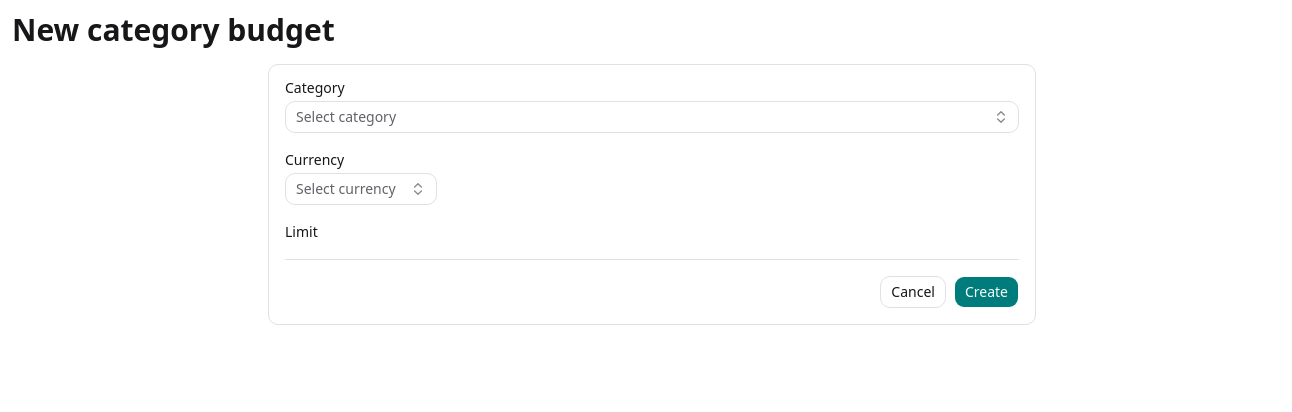
Test: BudgetCreate › renders the conflict prompt when server returns 409 with existingIsActive=true
Click the button "Create". click: [986, 292]
box: x1=954 y1=276 x2=1019 y2=308
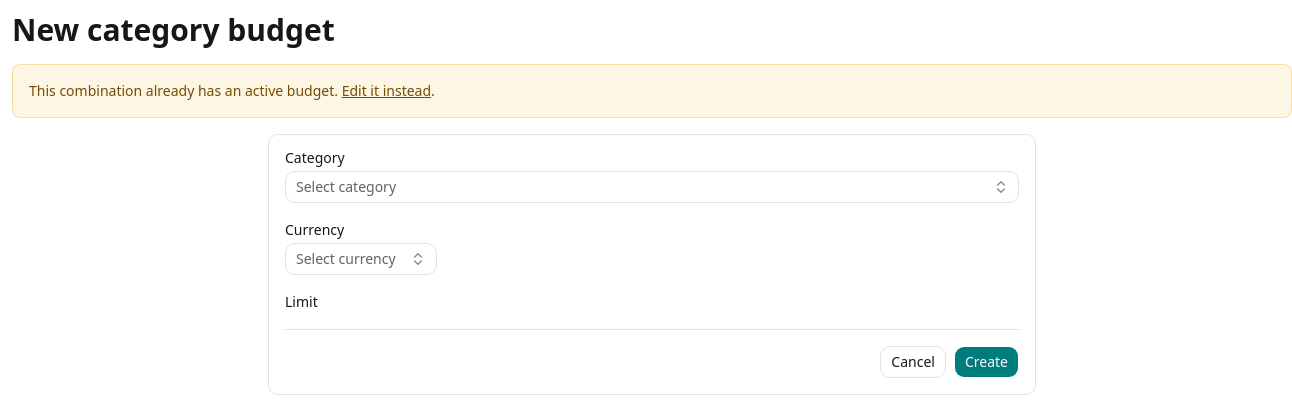
Expected: the link "Edit it instead" is shown, x1=342 y1=81 x2=431 y2=100
